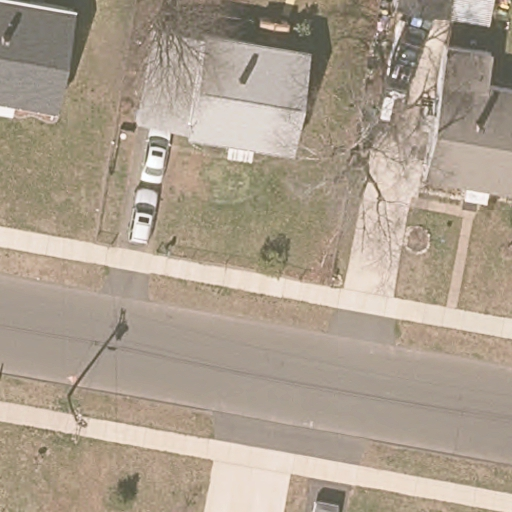DT: (62, 394, 90, 445)
